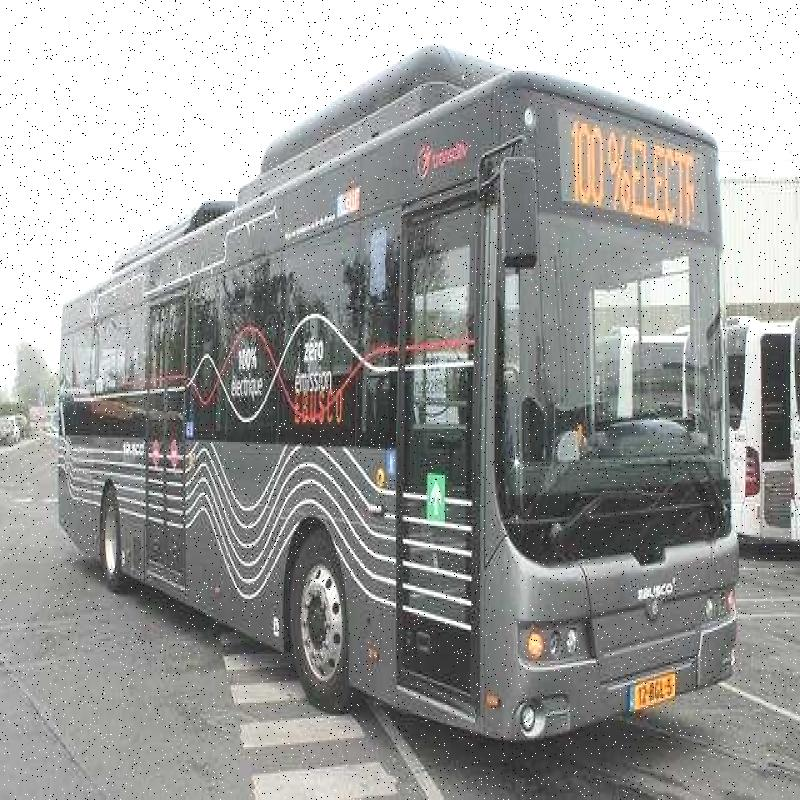bus: (43, 26, 765, 745)
